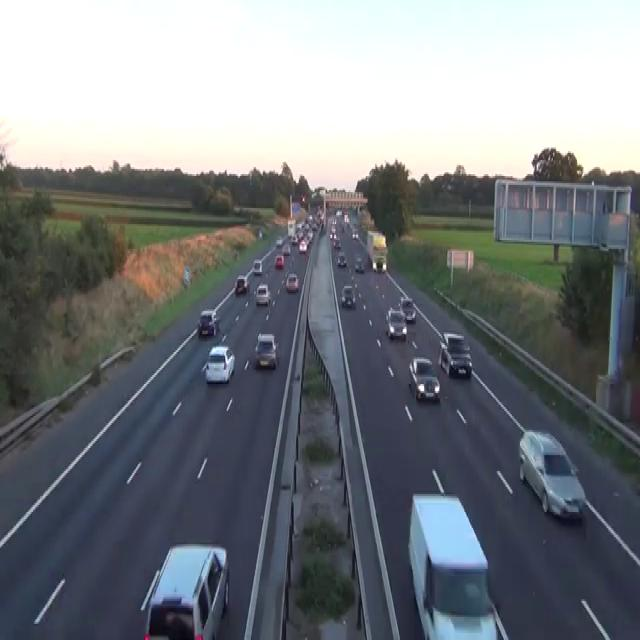Car: (142, 542, 229, 638), (518, 428, 585, 521), (438, 331, 472, 377), (408, 356, 440, 402), (203, 345, 235, 384), (254, 332, 279, 368), (197, 308, 220, 336), (386, 310, 407, 340), (415, 375, 440, 400), (441, 174, 466, 192), (399, 297, 416, 322), (255, 282, 271, 306), (340, 284, 355, 308), (285, 272, 298, 292), (234, 276, 248, 294), (372, 254, 386, 272), (385, 306, 399, 322), (372, 234, 386, 250), (354, 256, 364, 272), (183, 267, 190, 288), (252, 260, 262, 274), (336, 252, 346, 266), (274, 254, 283, 268), (275, 235, 283, 247), (298, 240, 306, 252), (333, 238, 341, 249), (282, 244, 290, 254), (446, 182, 456, 190), (352, 229, 358, 240), (290, 234, 297, 243), (233, 204, 240, 213), (331, 218, 336, 228), (335, 210, 342, 217), (312, 222, 317, 231), (258, 228, 262, 238), (344, 214, 349, 222), (300, 194, 305, 202), (340, 222, 344, 231), (308, 213, 312, 220)
Truck: (407, 491, 509, 638), (366, 229, 387, 272), (287, 219, 296, 238)
